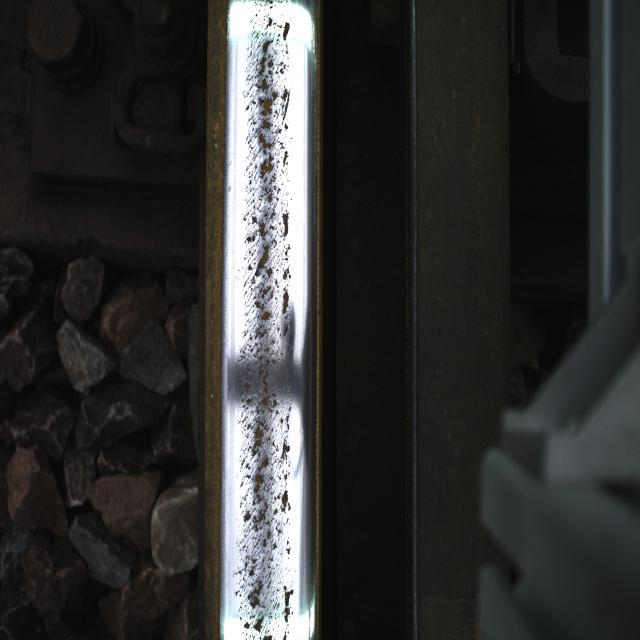scar: (226, 21, 299, 624)
